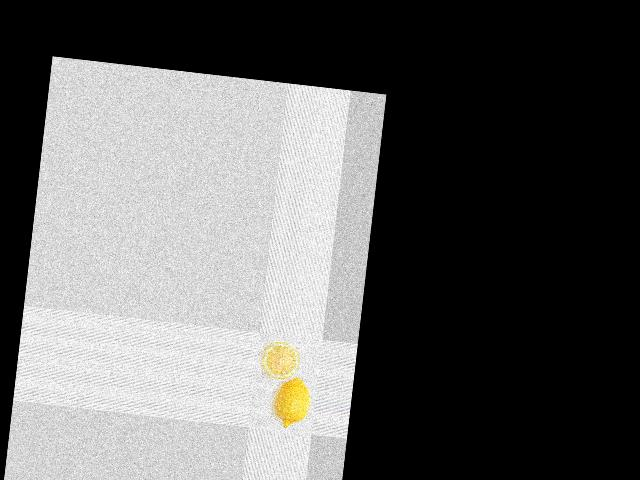lemon: (274, 370, 316, 429)
